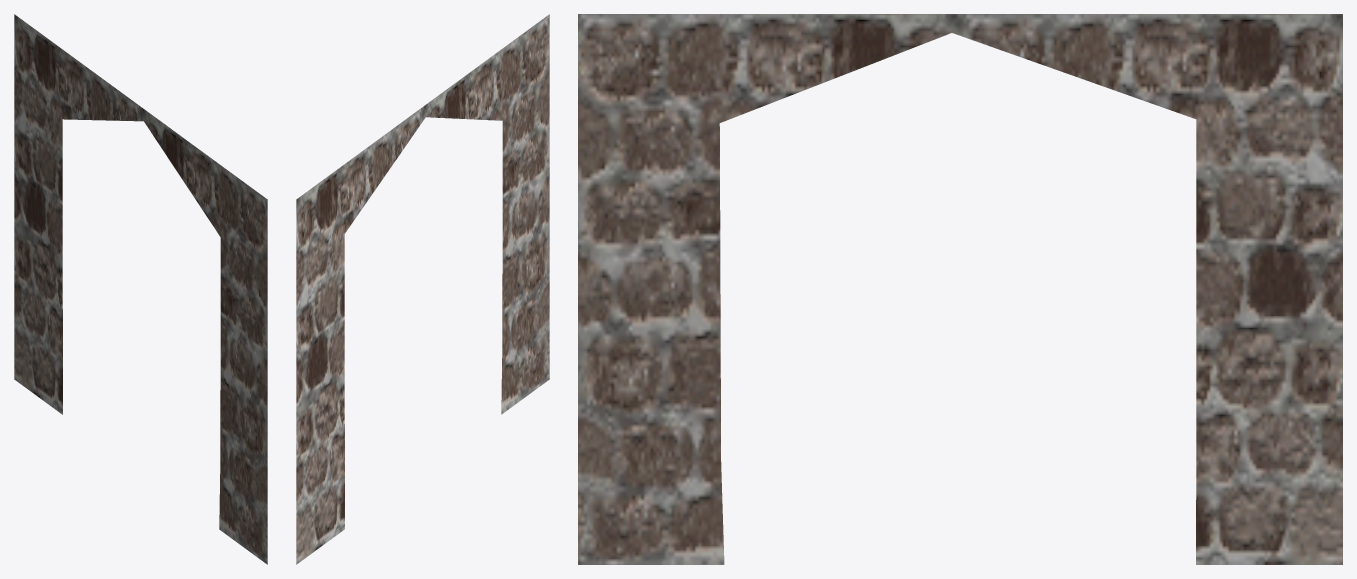
The model's file is W_AI1_O [Steine]_1221.glb.
3 views of the same model, side by side, from view 1: azimuth 30°, elevation 25°; view 2: azimuth 150°, elevation 25°; view 3: azimuth 270°, elevation 25° (orthographic). The views are drawn at different scales.
Visible parts, largest first — view 1: polySurfaceShape793; view 2: polySurfaceShape793; view 3: polySurfaceShape793.
Boxes of the visible parts, <box> form: polySurfaceShape793: <box>14,14,267,564</box>; polySurfaceShape793: <box>296,14,549,564</box>; polySurfaceShape793: <box>578,14,1342,564</box>.
Size of the model in its own units: 1.58e-07 by 0.3486 by 0.4385.
1 material, 1 textured.
